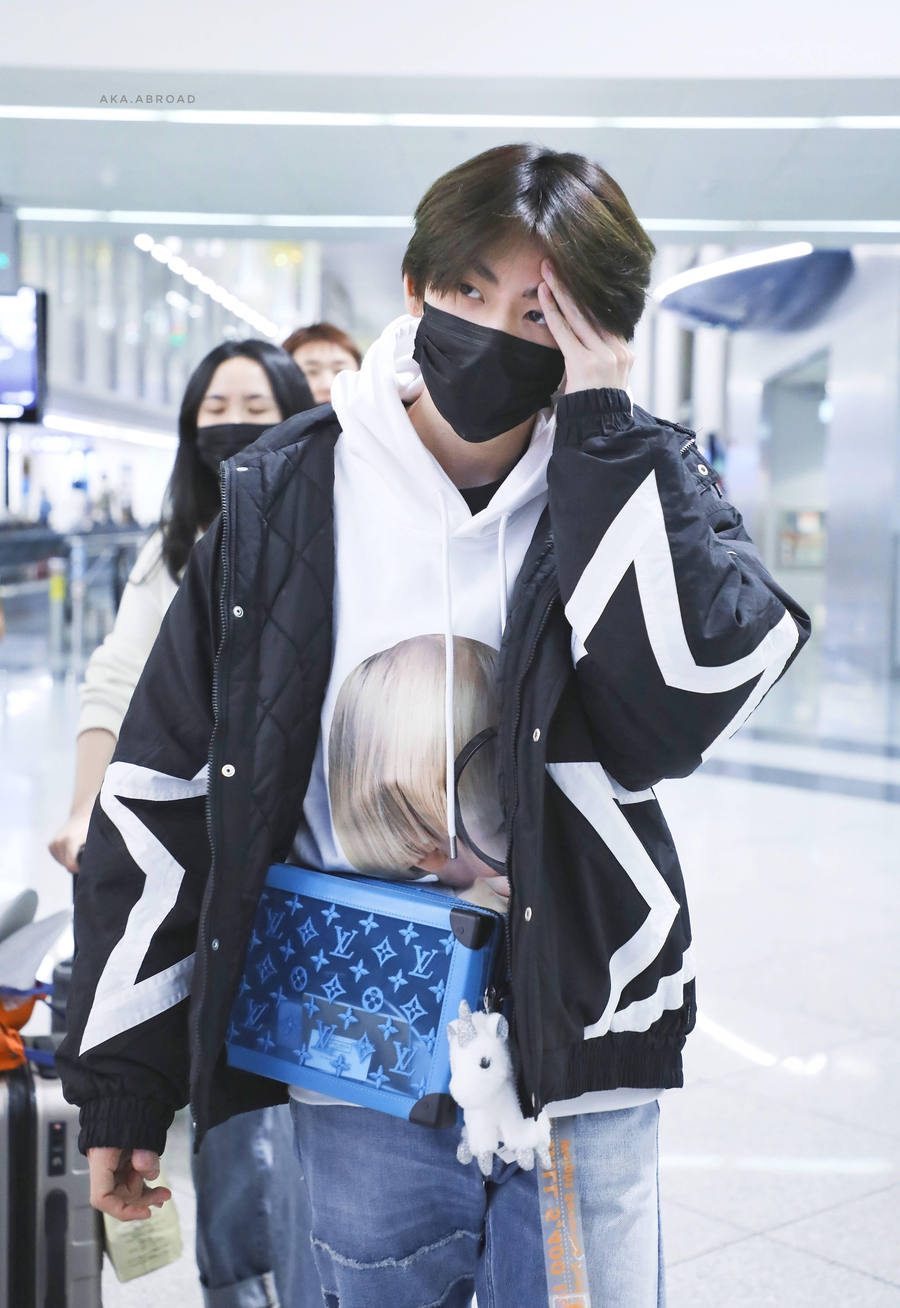NONE: (287, 342, 356, 417)
OK: (417, 251, 572, 443), (199, 376, 287, 479)
